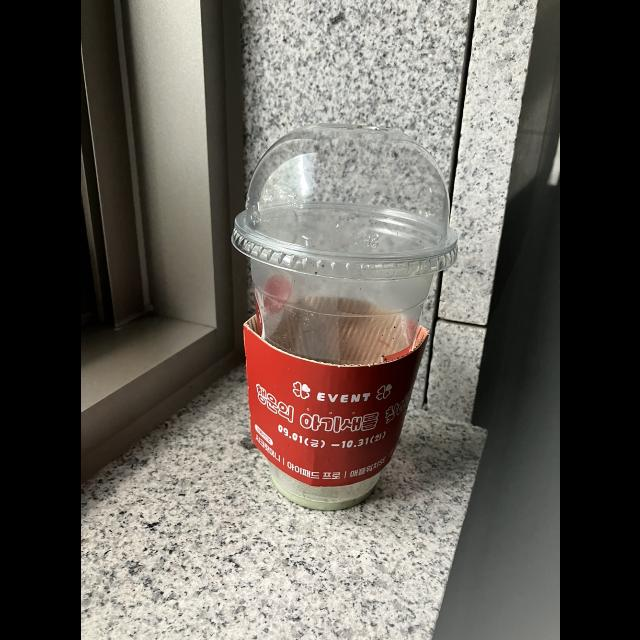plastic_cup: (229, 124, 459, 512), (224, 123, 461, 283)
